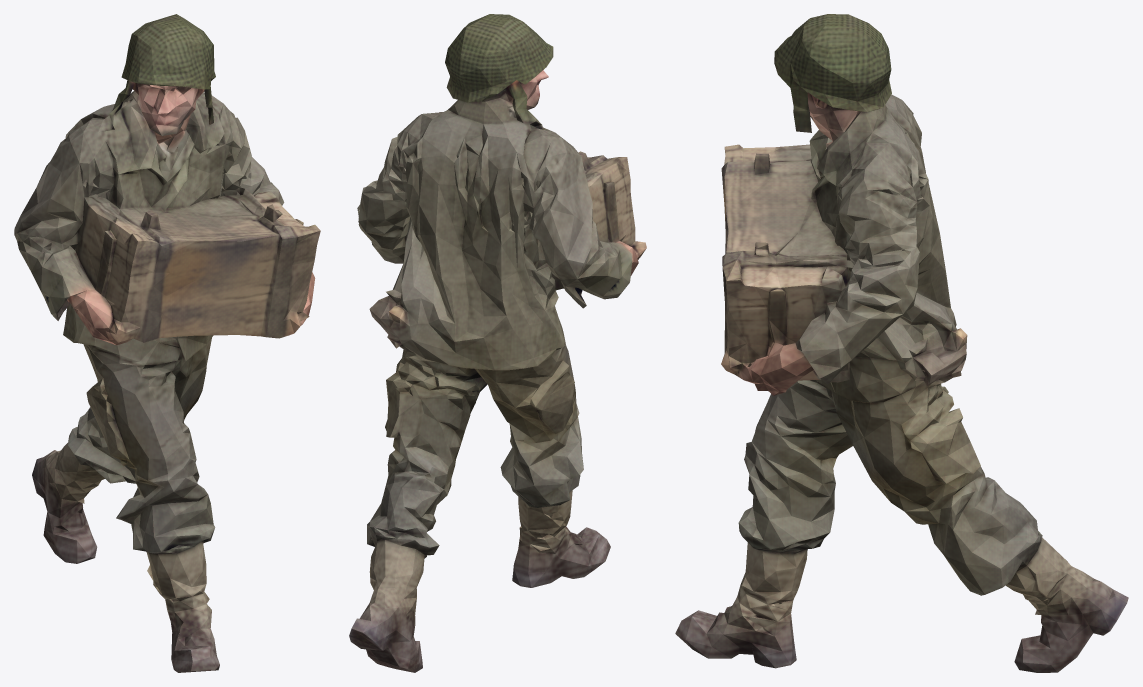
The model's file is walk_us_crate_b.obj.
The picture shows the model from 3 angles, left to right: view 1: azimuth 30°, elevation 25°; view 2: azimuth 150°, elevation 25°; view 3: azimuth 270°, elevation 25°; orthographic projection. The views are drawn at different scales.
Parts seen in each view (by area): view 1: walk_us_crate_b; view 2: walk_us_crate_b; view 3: walk_us_crate_b.
Boxes of the visible parts, left/top/right/bottom form: walk_us_crate_b: left=14, top=14, right=320, bottom=672; walk_us_crate_b: left=349, top=14, right=646, bottom=672; walk_us_crate_b: left=675, top=14, right=1128, bottom=672.
Bounding box in the file's own units: 0.8087 × 1.8 × 1.14.
Materials: 1 (1 with a texture image).
